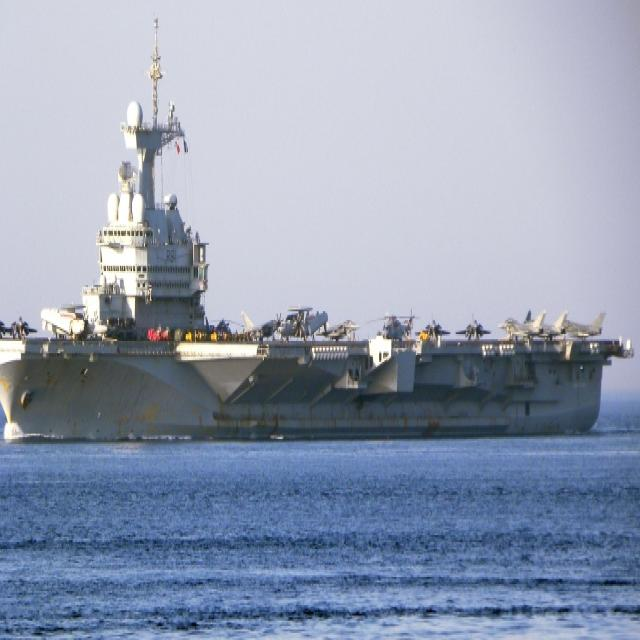Portanaves: (1, 19, 637, 445)
